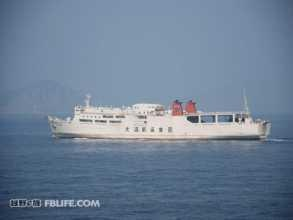otherboat: (47, 90, 272, 138)
